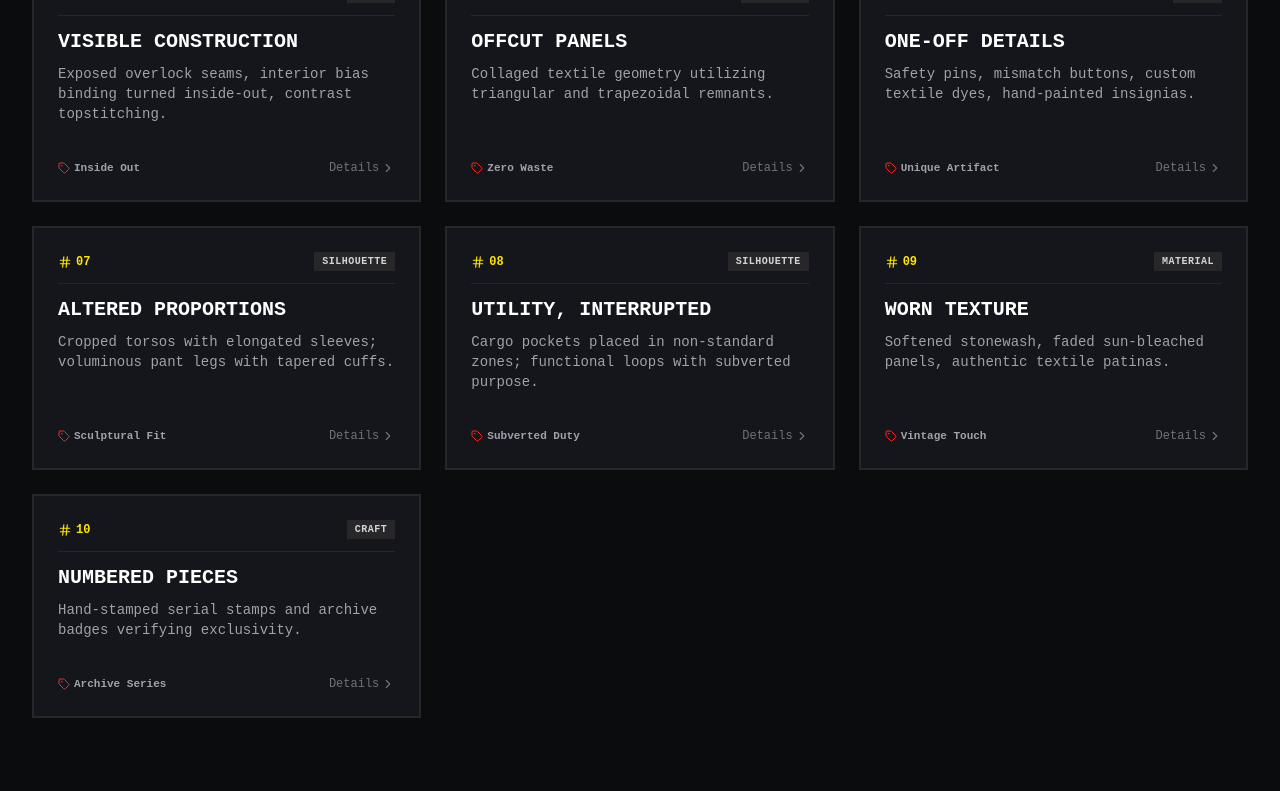
it: GarmentLanguage › toggles expansion detail on card click
(page scrolled)
Click the heading "NUMBERED PIECES" at (148, 578), box [58, 566, 238, 589]
(page scrolled)
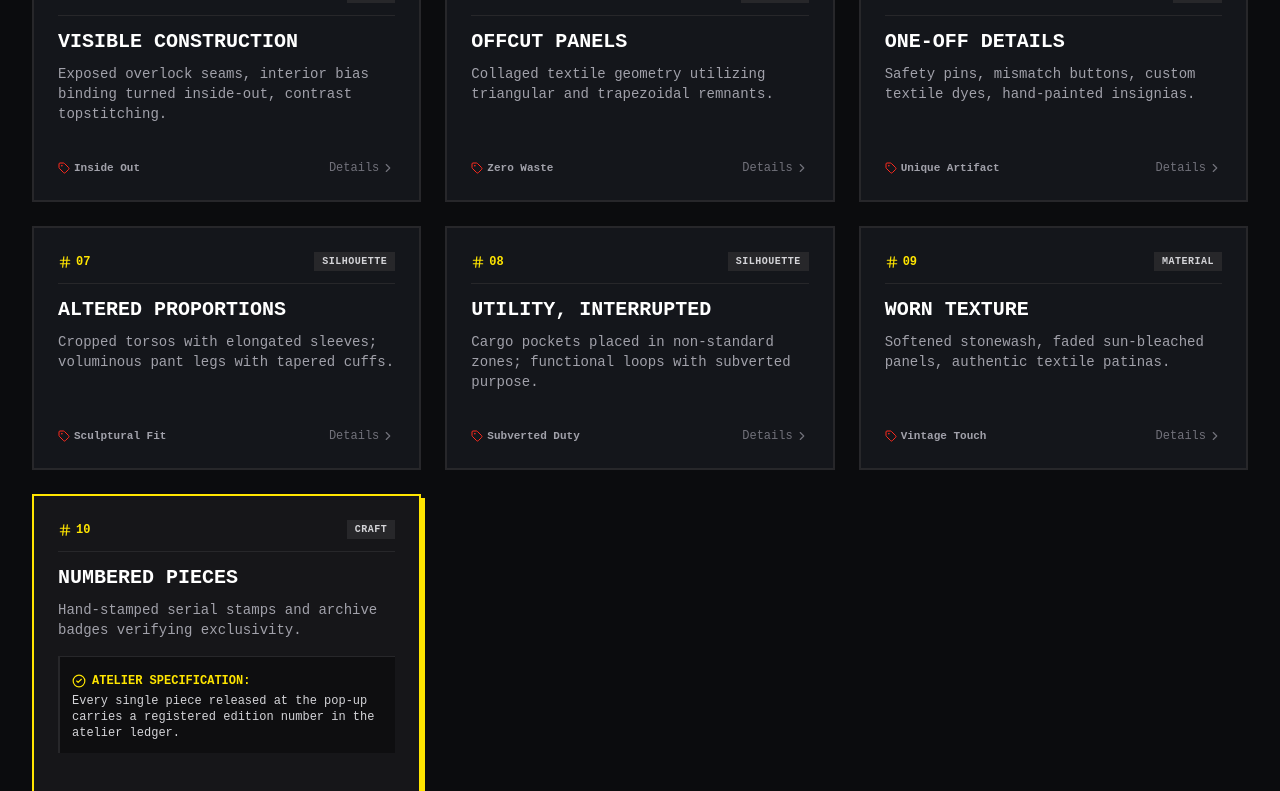
Expected: the text "Every single piece released at the pop-up carries a registered edition number" is shown, [72, 694, 374, 740]
